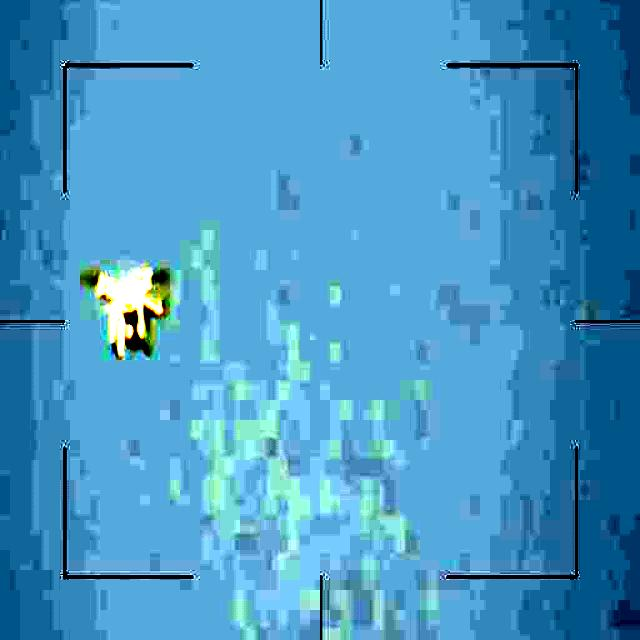bird: (86, 265, 176, 361)
